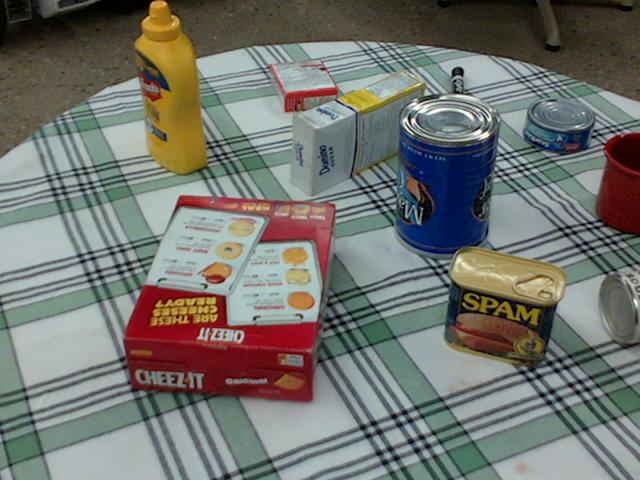cracker_box: (121, 197, 334, 399)
gelatin_box: (269, 60, 337, 111)
large_marker: (450, 66, 464, 117)
master_chef_can: (393, 92, 502, 256)
mug: (595, 132, 639, 234)
mustard_bottle: (134, 1, 204, 172)
potted_meat_can: (444, 246, 565, 364)
sugar_box: (291, 69, 424, 195)
tomato_soup_can: (600, 269, 639, 341)
tuna_fish_can: (523, 98, 594, 152)
